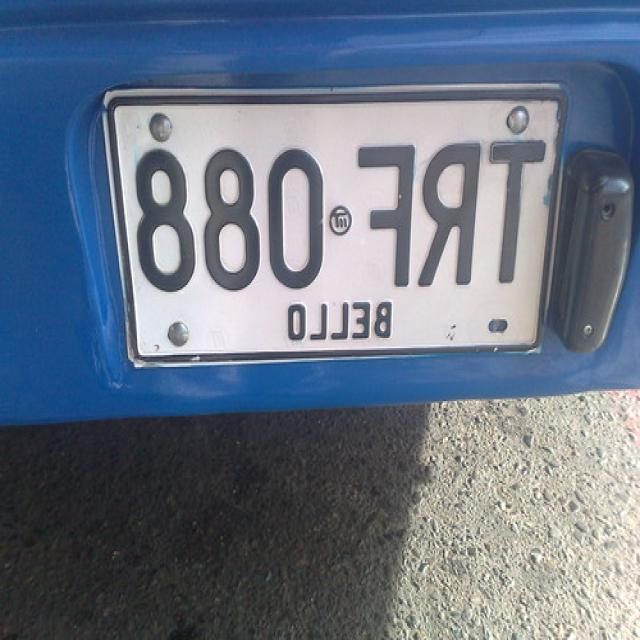placas: (121, 125, 547, 299)
